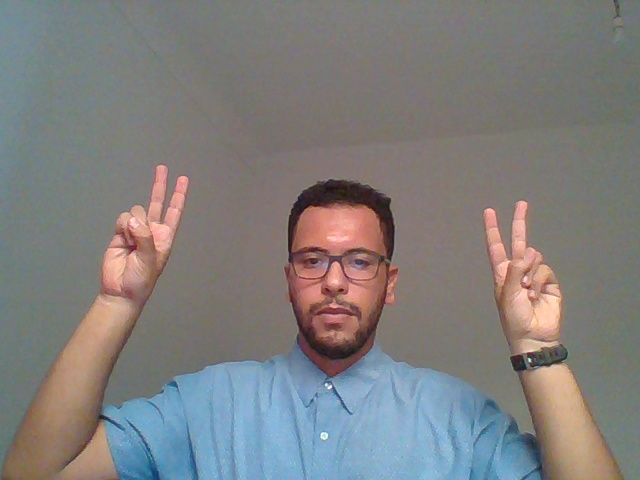vectory: (453, 183, 614, 456), (52, 138, 194, 438)
